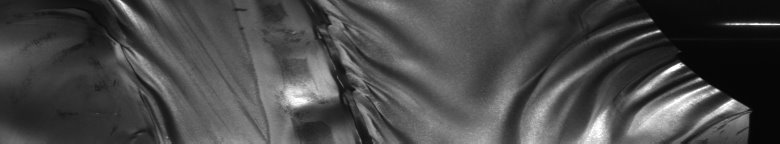ke: (110, 4, 176, 136)
